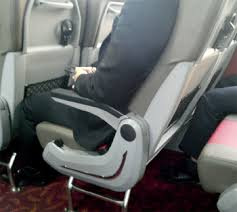seat: (202, 114, 237, 191)
